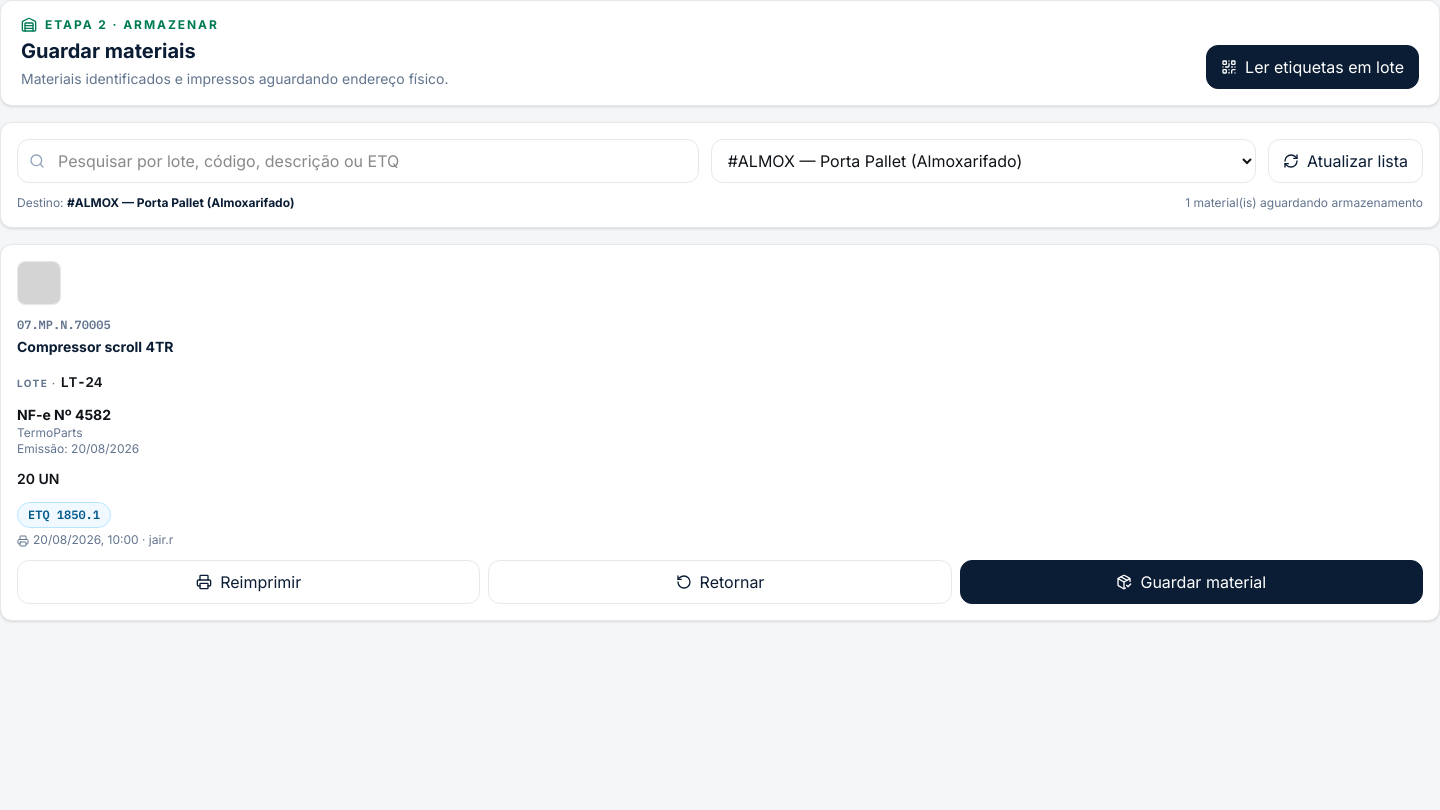
Test: StoreMaterialsScreen › validates the address beside the field and stores using the audited payload
The image size is (1440, 810).
Click the button "Guardar material".
click(1191, 582)  # box [960,560,1423,604]
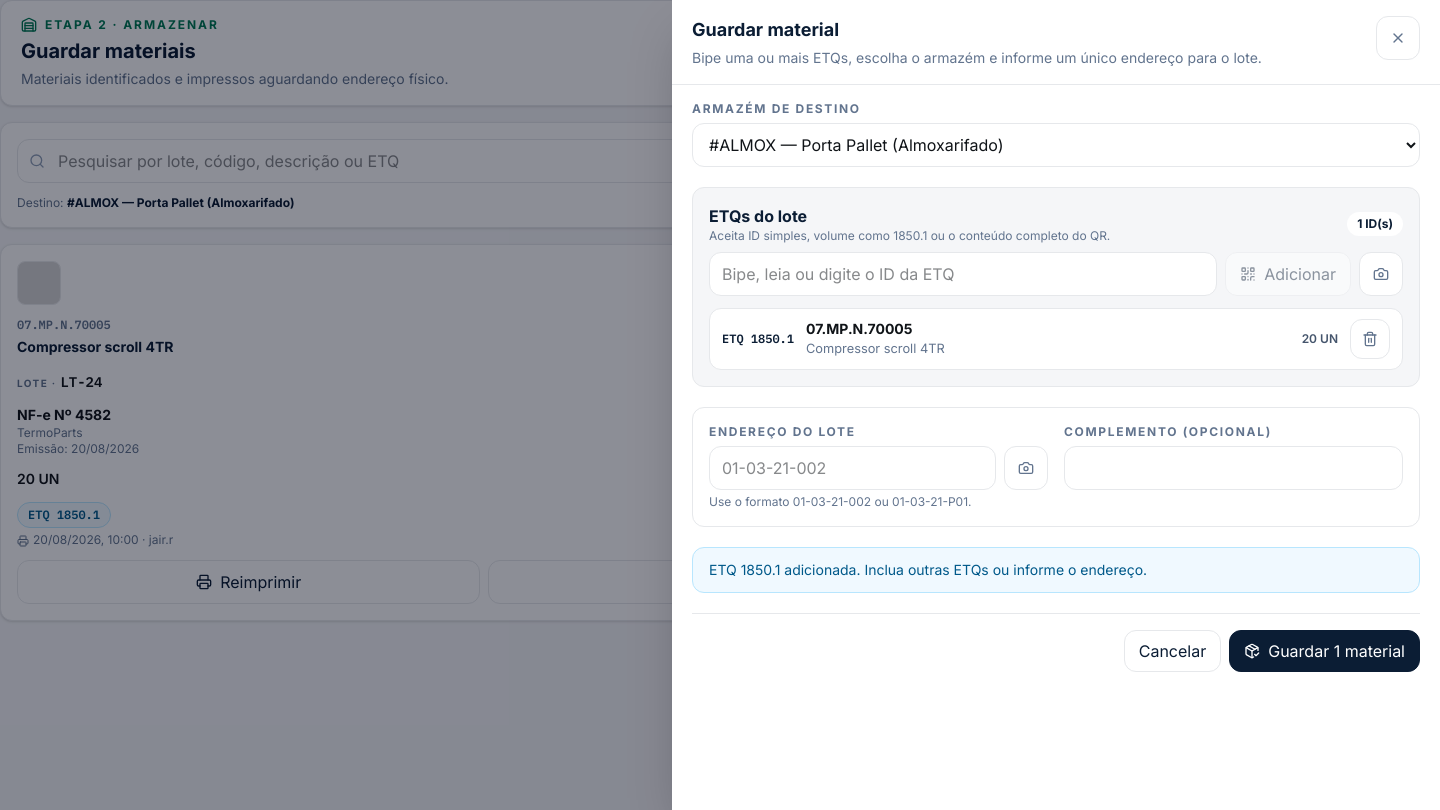
Expected: the text "ETQ 1850.1 adicionada. Inclua outras ETQs ou informe o endereço." is shown, [692,547,1420,593]
Type "endereco-invalido" into the field with placeholder "01-03-21-002".
click(852, 468); type("endereco-invalido")  # box [709,446,996,490]
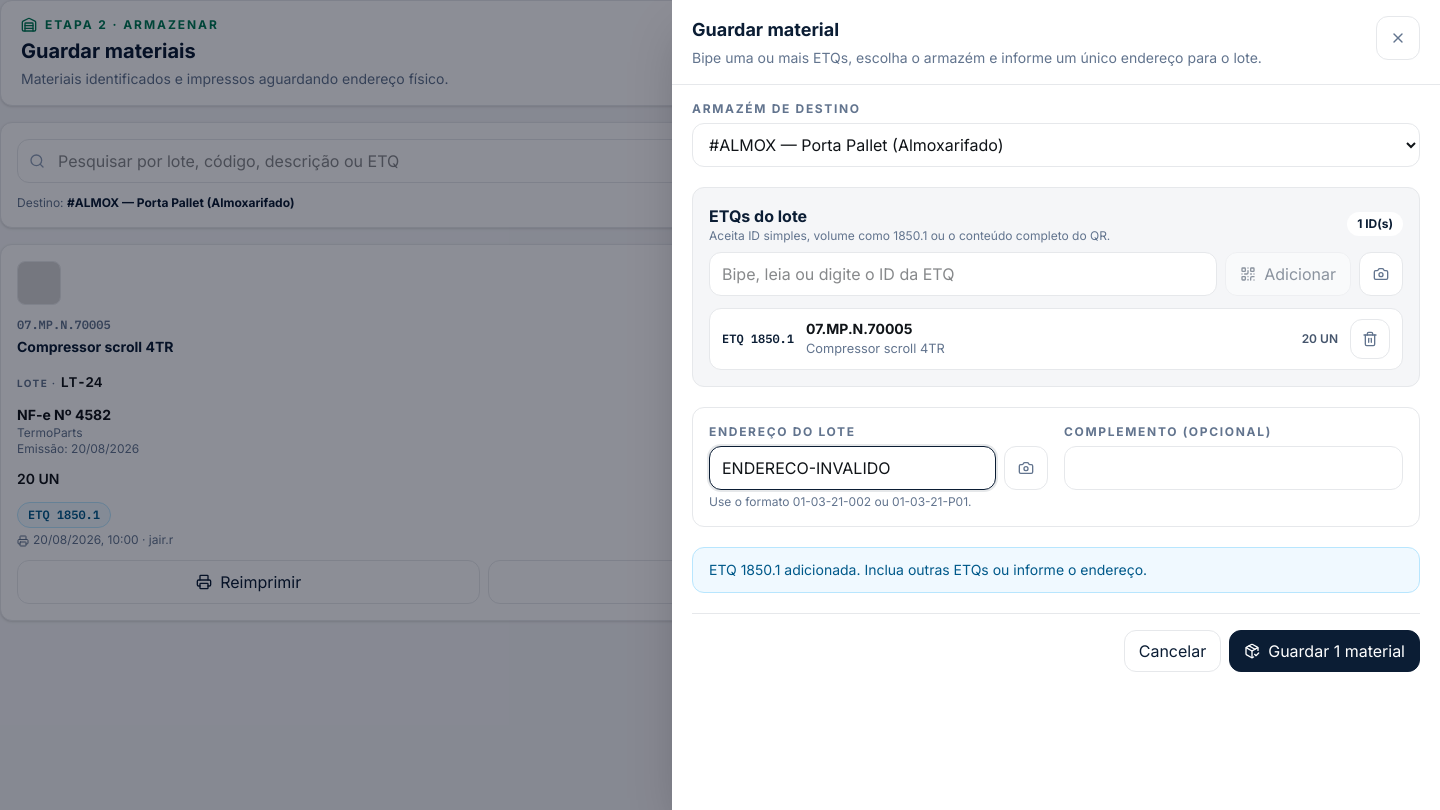
Click the button "Guardar 1 material".
click(1325, 651)  # box [1229,630,1420,672]
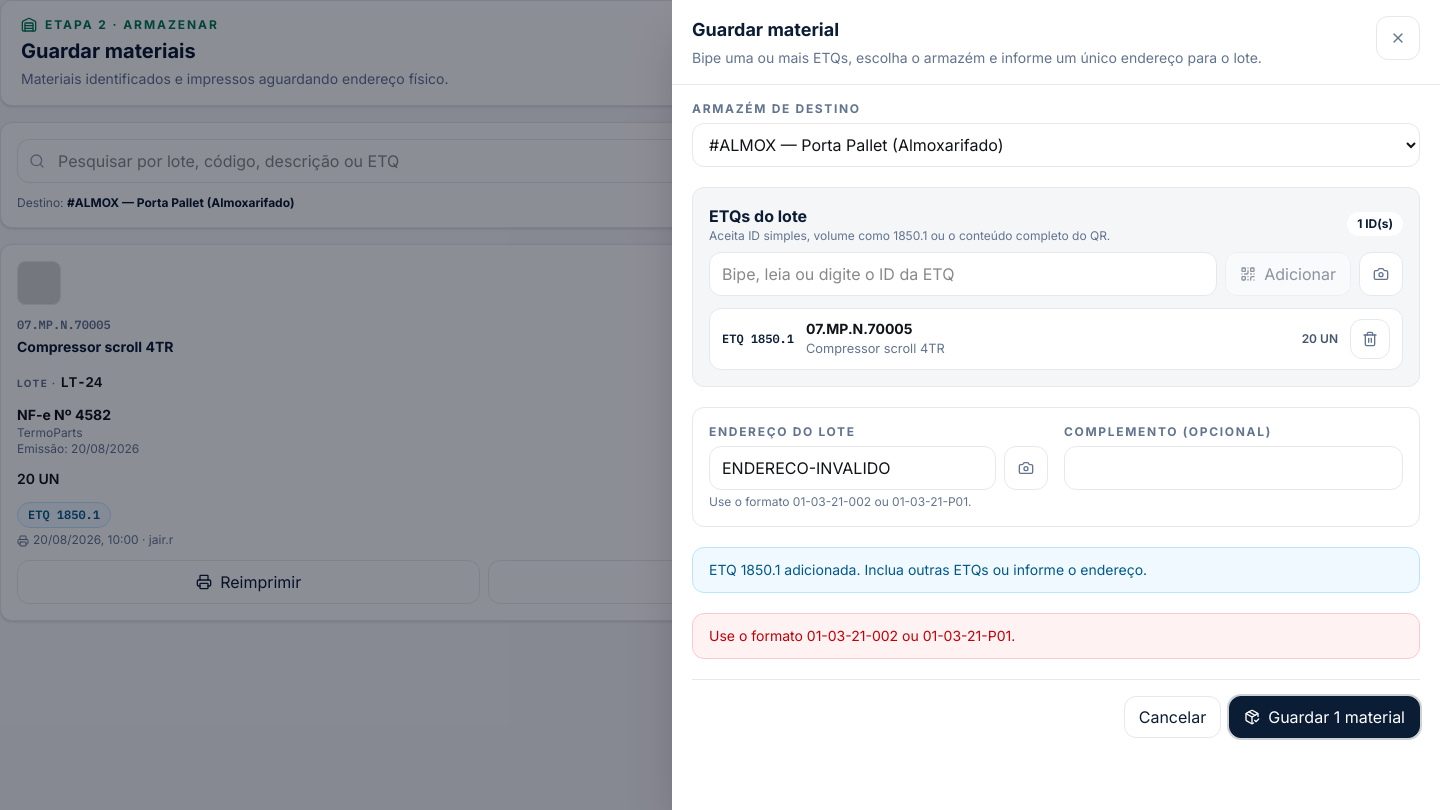
Expected: the message "Use o formato 01-03-21-002 ou 01-03-21-P01." is shown, [692,613,1420,659]
Replace the text in the field with placeholder "01-03-21-002" with "01-03-21-002" at (852,468), box [709,446,996,490]
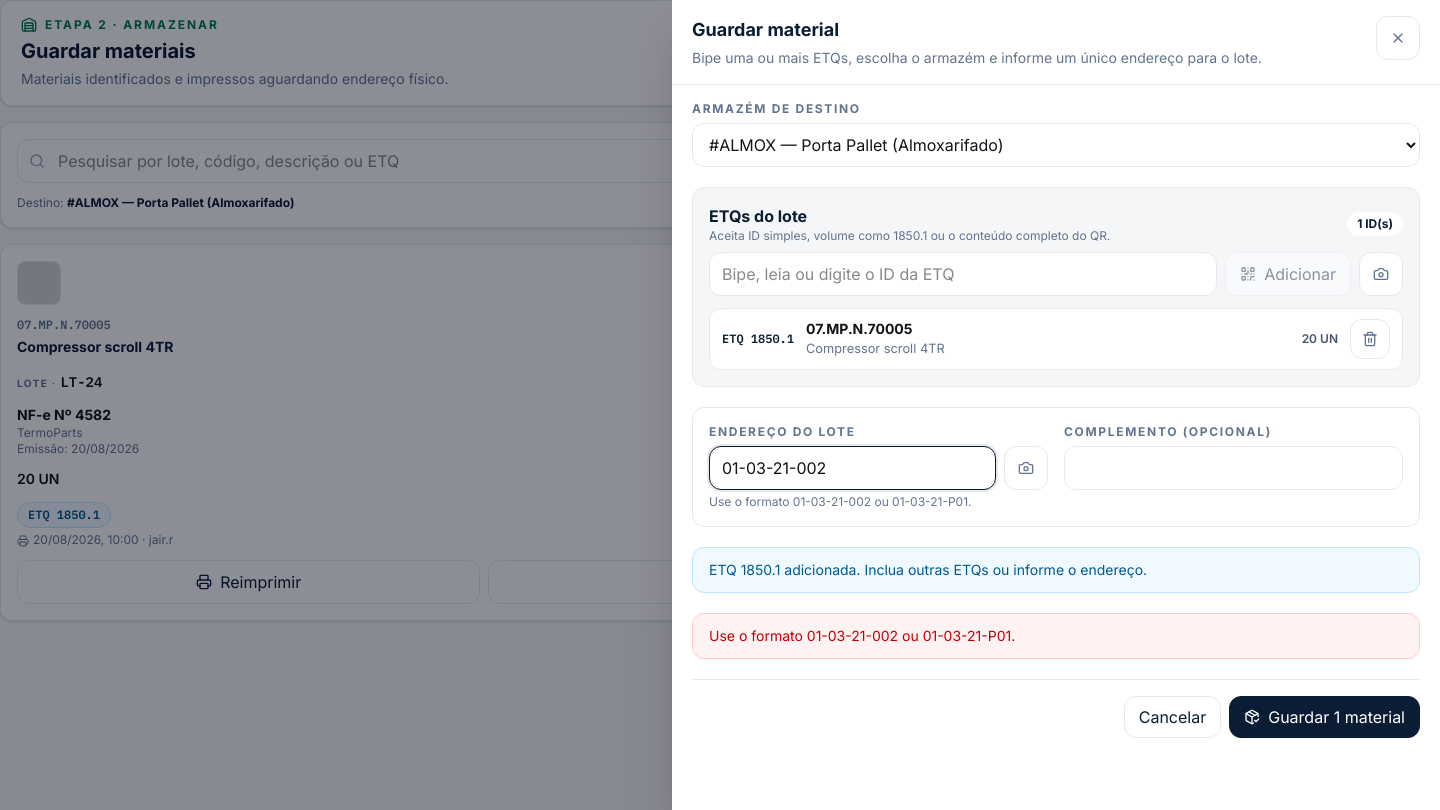
Type "Caixa azul" into the field labelled "Complemento (opcional)".
click(1234, 468); type("Caixa azul")  # box [1064,446,1403,490]
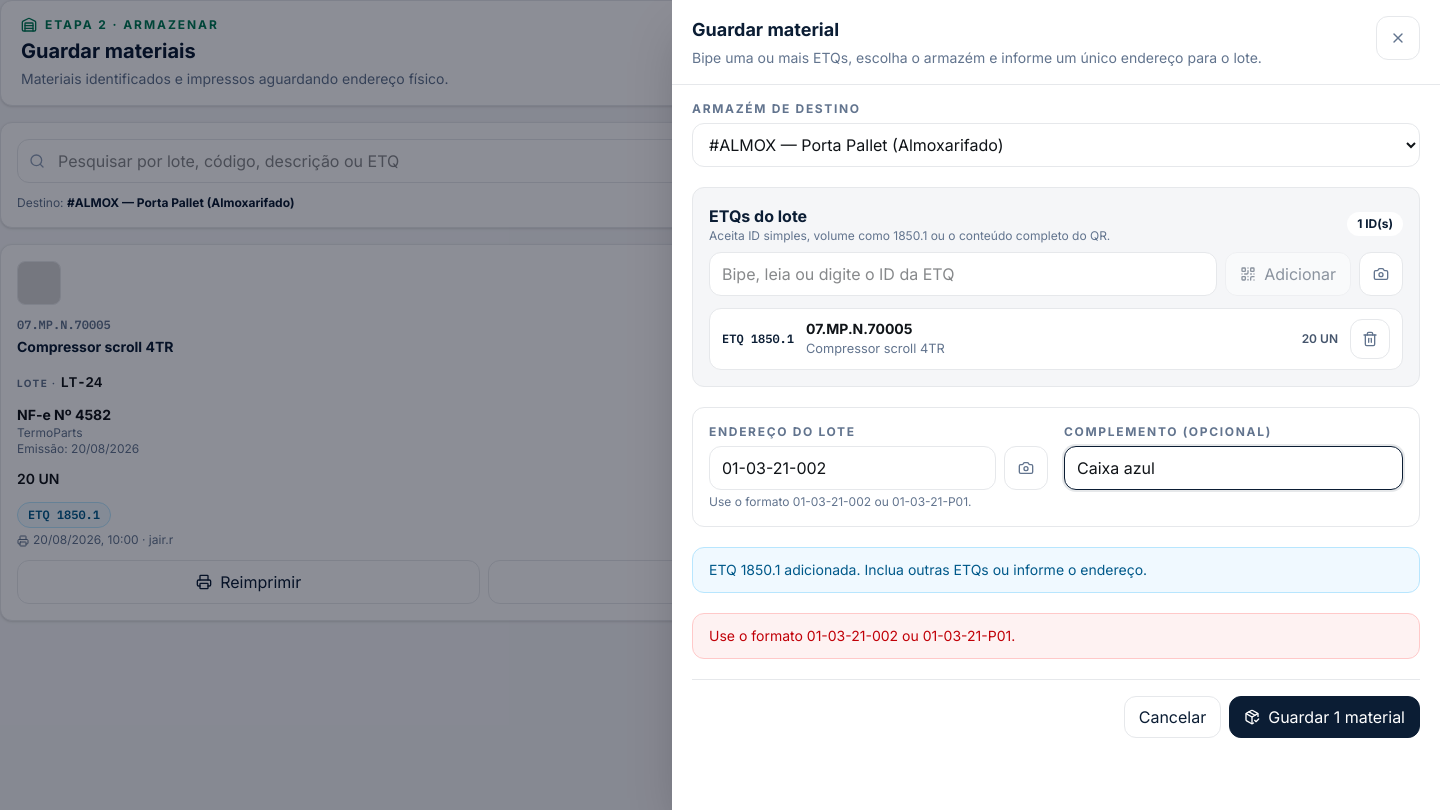
Click the button "Guardar 1 material".
click(1325, 717)  # box [1229,696,1420,738]
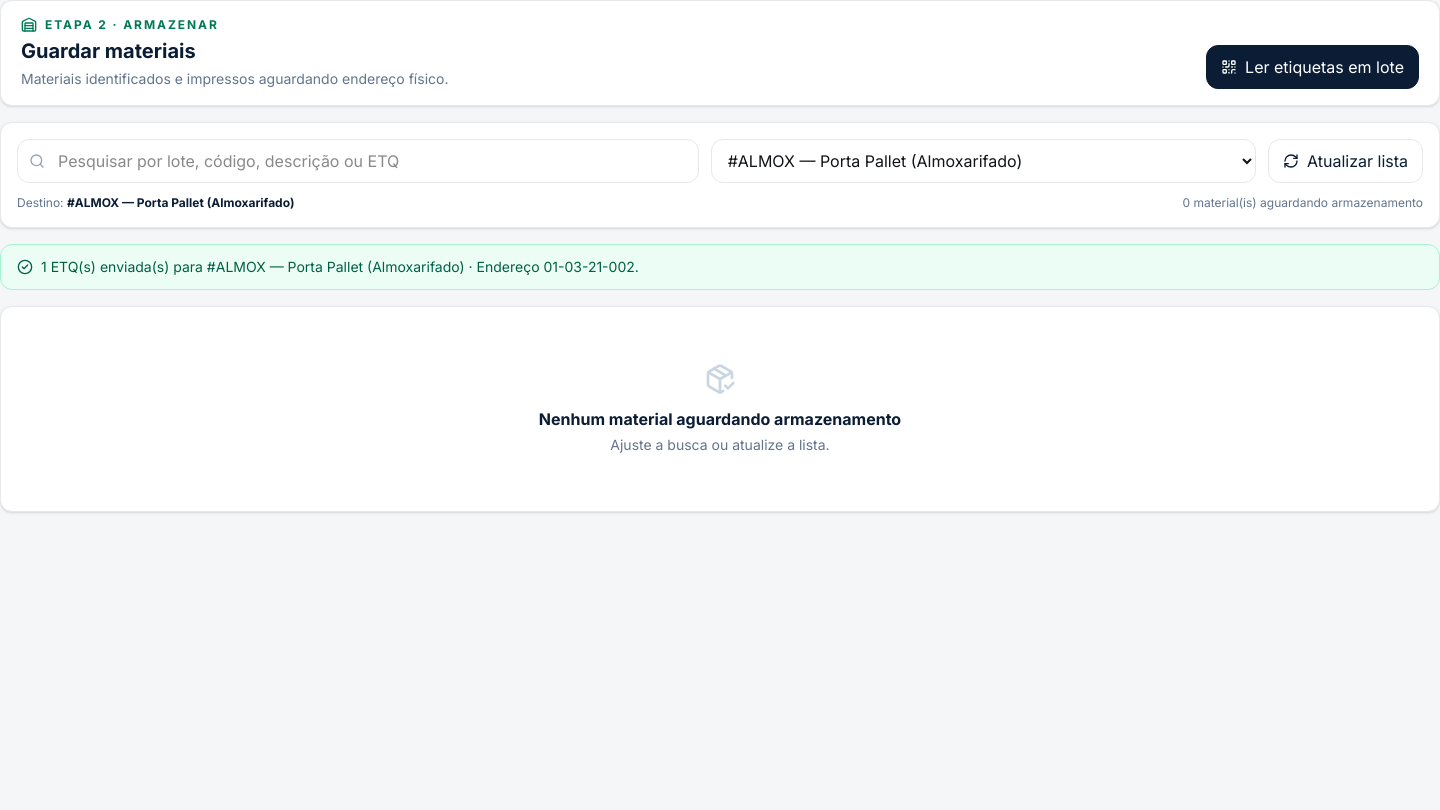
Expected: the element with test id "store-material-row" is gone
